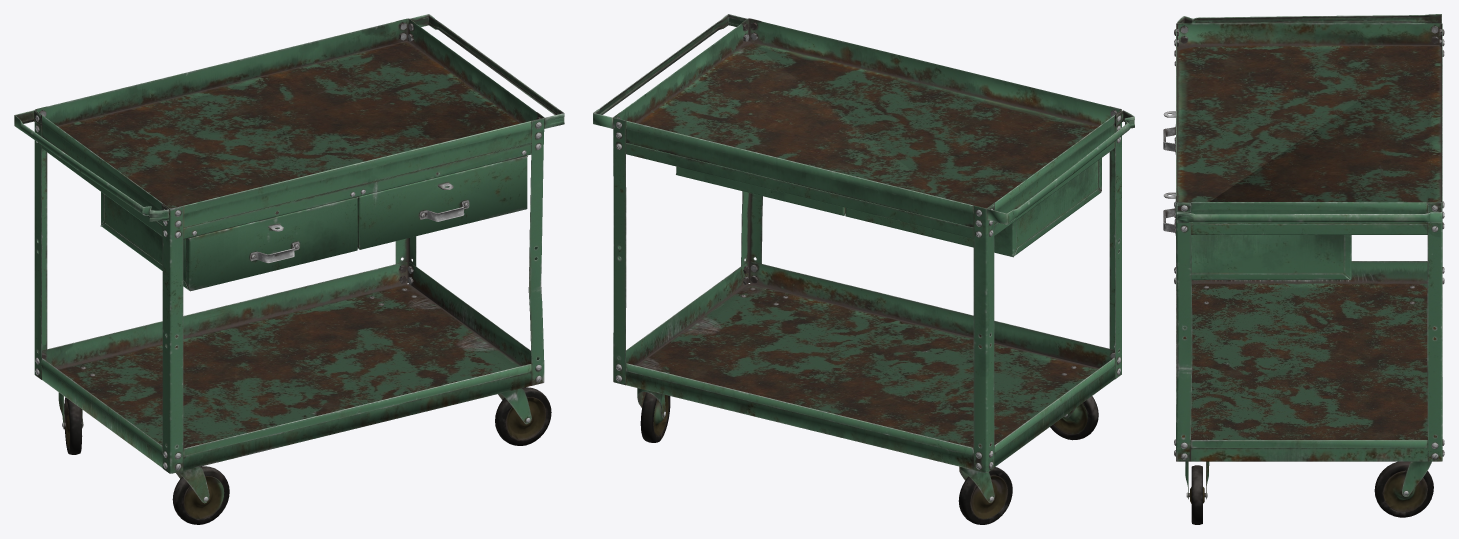
The model's file is tool_cart.glb.
The picture shows the model from 3 angles, left to right: view 1: azimuth 30°, elevation 25°; view 2: azimuth 150°, elevation 25°; view 3: azimuth 270°, elevation 25°; orthographic projection. The views are drawn at different scales.
Parts seen in each view (by area): view 1: tool_cart; view 2: tool_cart; view 3: tool_cart.
Part boxes in pixels (left/top/right/bottom): tool_cart: left=14, top=14, right=564, bottom=524; tool_cart: left=593, top=14, right=1134, bottom=524; tool_cart: left=1163, top=14, right=1444, bottom=524.
Size of the model in its own units: 1.27 by 0.9647 by 0.7537.
1 material, 1 textured.
